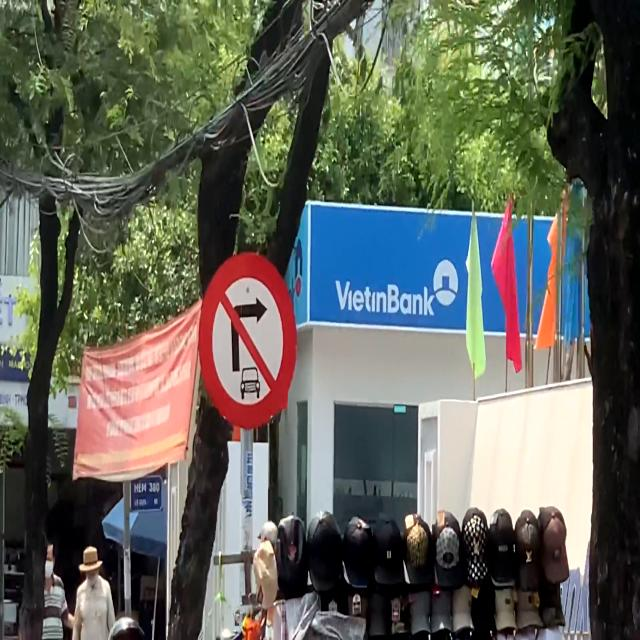P.103b: (199, 249, 297, 429)
